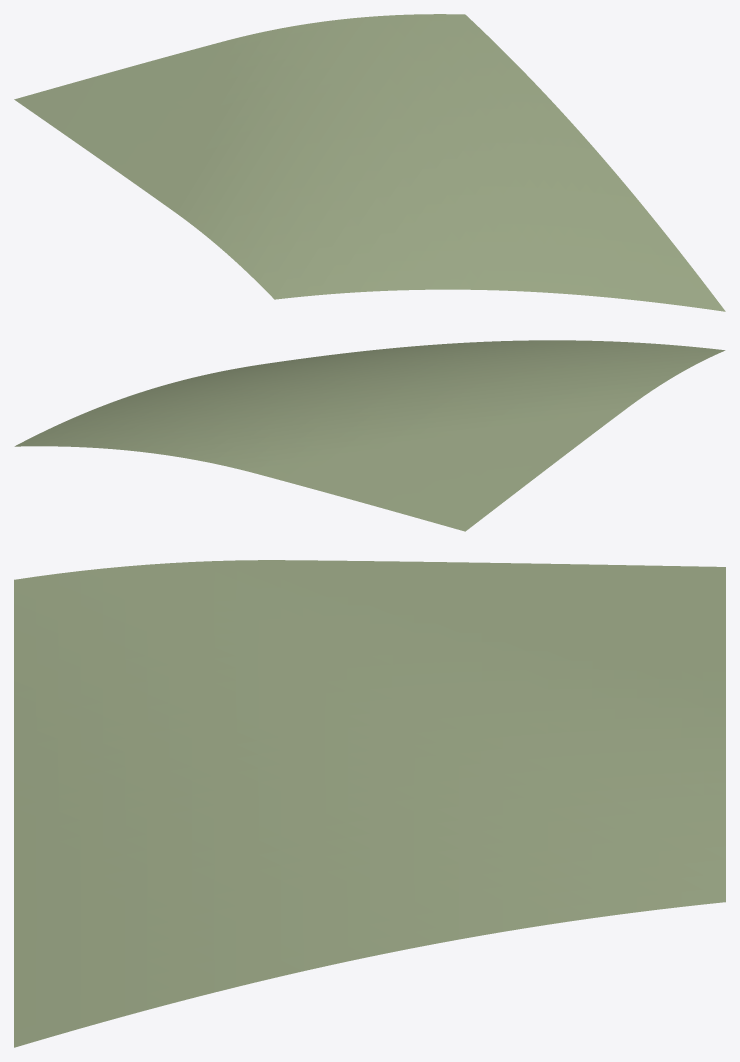
Rendered from expanse-22-7.glb.
The picture shows the model from 3 angles, top to bottom: view 1: azimuth 30°, elevation 25°; view 2: azimuth 150°, elevation 25°; view 3: azimuth 270°, elevation 25°; orthographic projection. The views are drawn at different scales.
Visible parts, largest first — view 1: expanse-22-7; view 2: expanse-22-7; view 3: expanse-22-7.
Boxes of the visible parts, x1=… form: expanse-22-7: x1=14, y1=14, x2=725, y2=311; expanse-22-7: x1=14, y1=340, x2=725, y2=531; expanse-22-7: x1=14, y1=560, x2=725, y2=1047.
Size of the model in its own units: 256 by 75.41 by 256.
